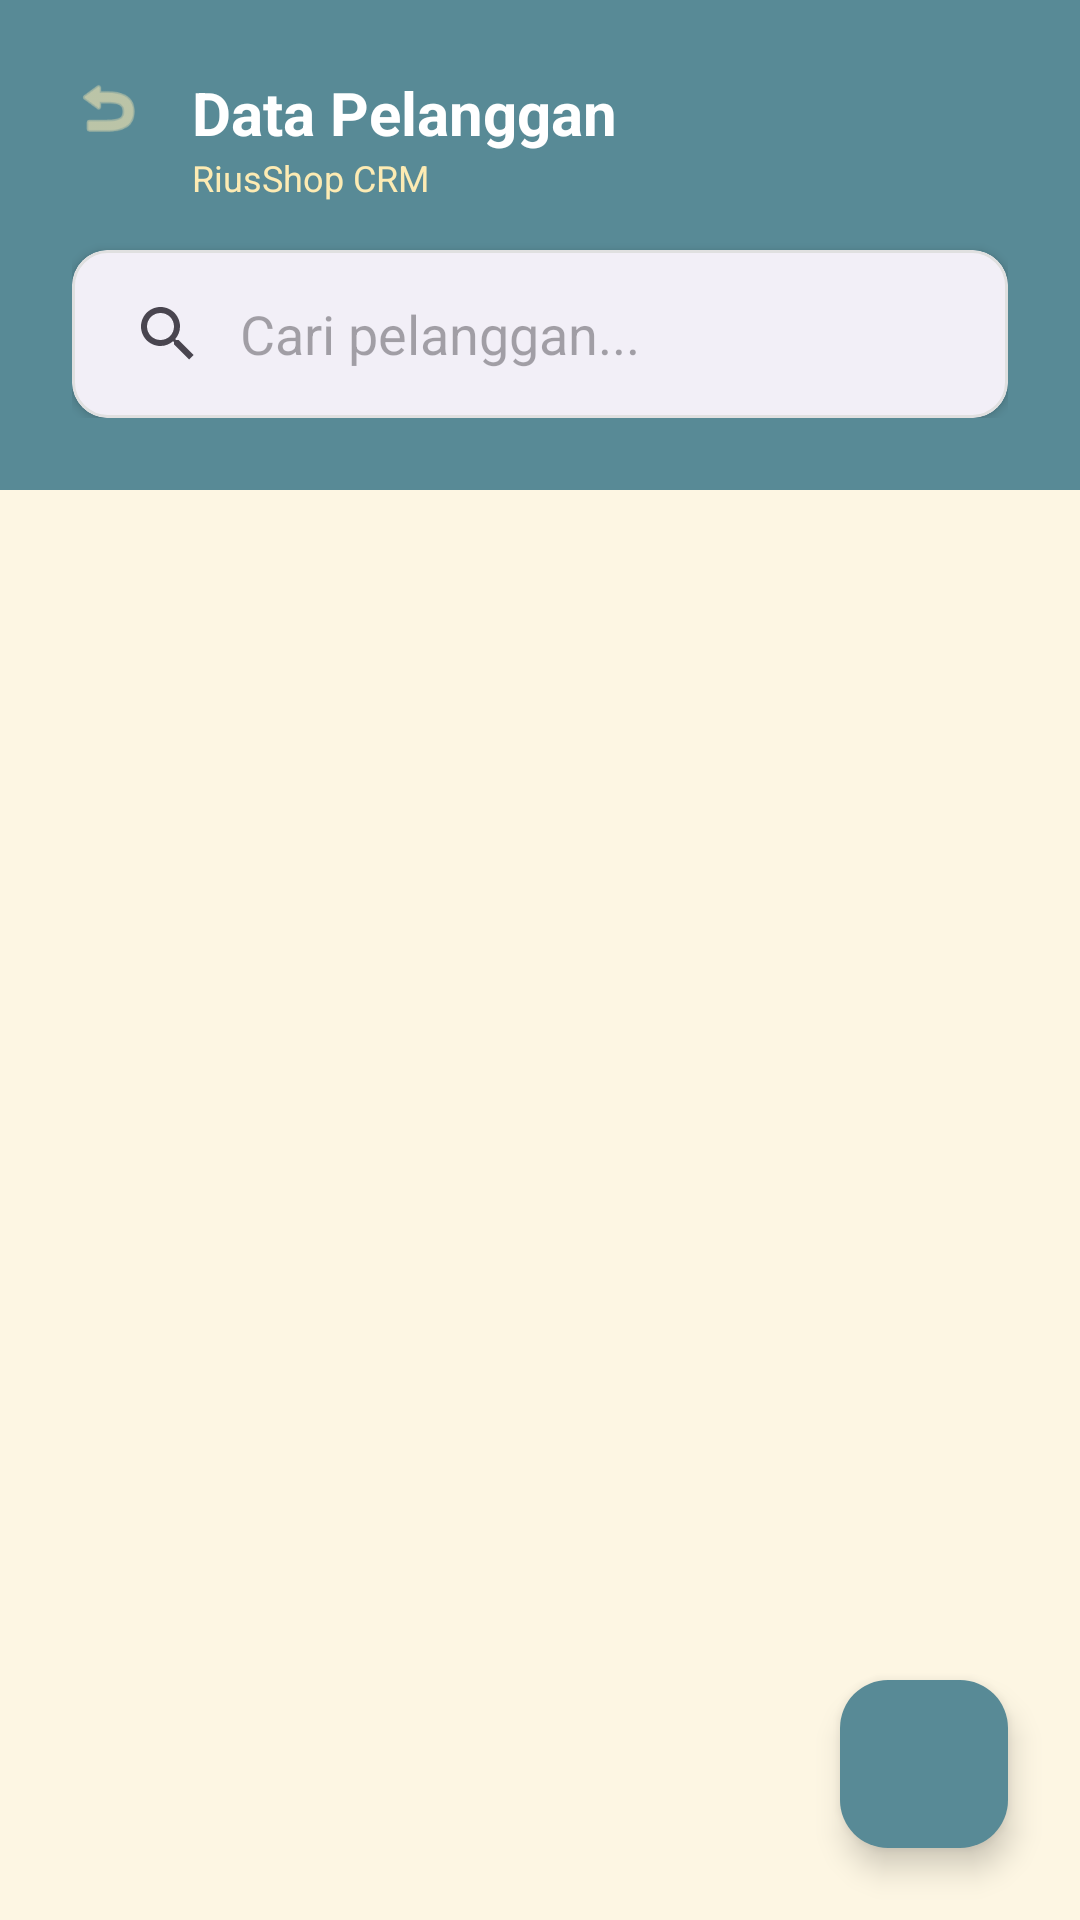

Locate icon controls on the screen. Image size 1080 × 1920, boxes as (x1, y1, x2, y2).
revert: (83, 85, 135, 132)
